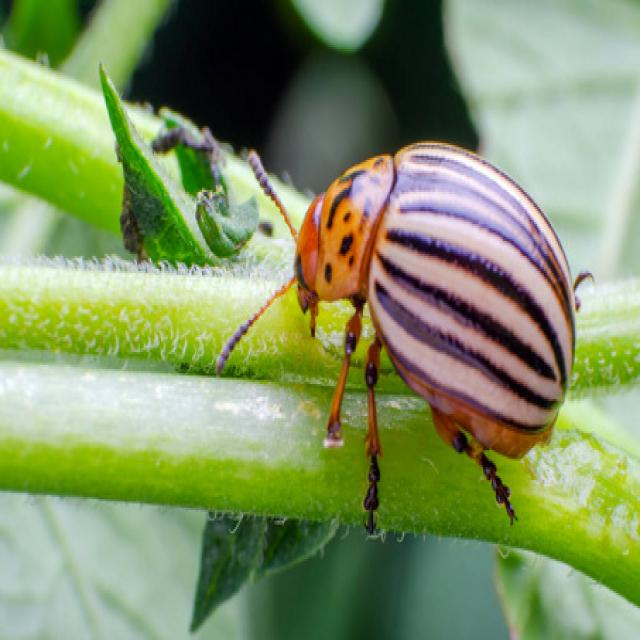ShuCaiHuaBanChong-Grown-: (269, 123, 583, 496)
